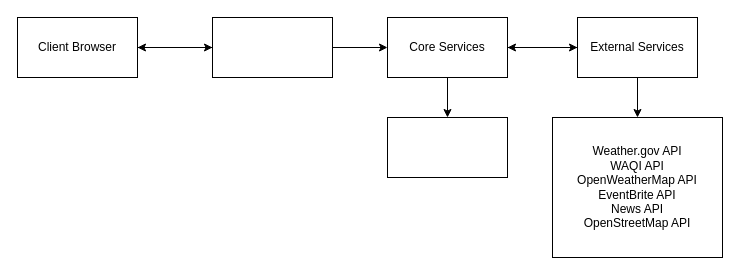
This 740x275 diagram has some shape labels left out. The centre of each missing label's shape, as x and y in pixels:
"Flask Web Application" goes at (272,47).
"SQLite Database" goes at (447,147).
